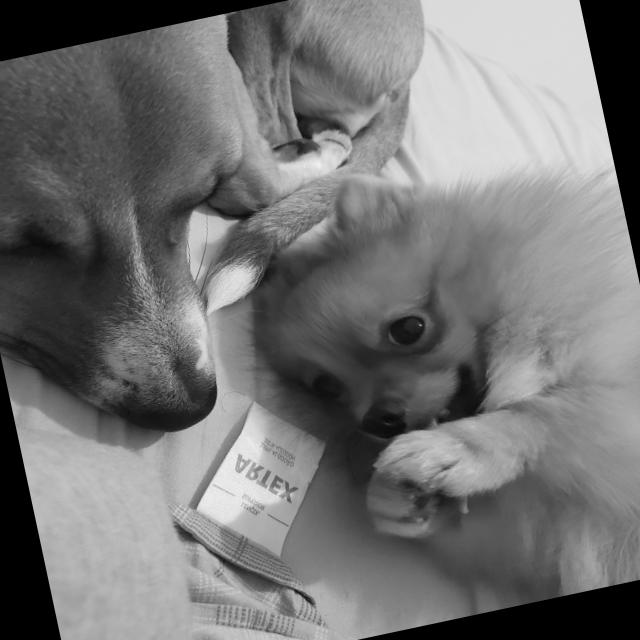laying down: (0, 0, 504, 461)
